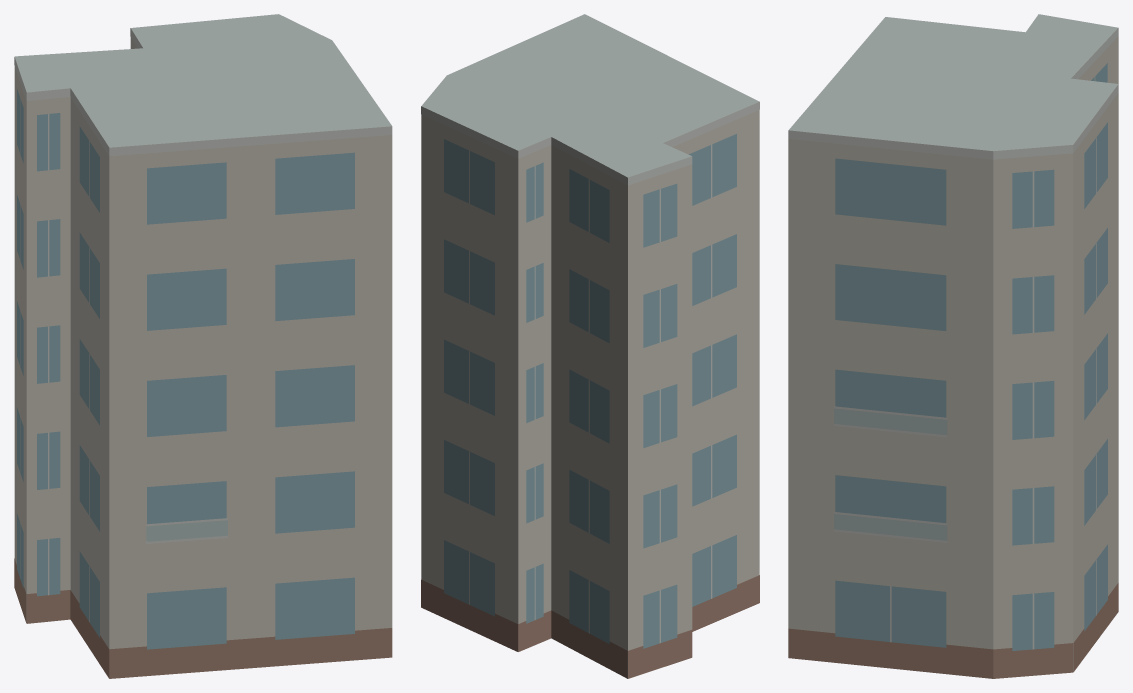
File: survey-upis-32507010.glb
3 renders of one model, left to right at view 1: azimuth 30°, elevation 25°; view 2: azimuth 150°, elevation 25°; view 3: azimuth 270°, elevation 25°, orthographic. The views are drawn at different scales.
Visible parts, largest first — view 1: survey-upis-32507010.tmp; view 2: survey-upis-32507010.tmp; view 3: survey-upis-32507010.tmp.
Boxes of the visible parts, x1,y1,x2,y2 form: survey-upis-32507010.tmp: (14,14,392,678); survey-upis-32507010.tmp: (421,14,759,678); survey-upis-32507010.tmp: (788,14,1118,678).
Size of the model in its own units: 8.51 by 15.25 by 8.66.
